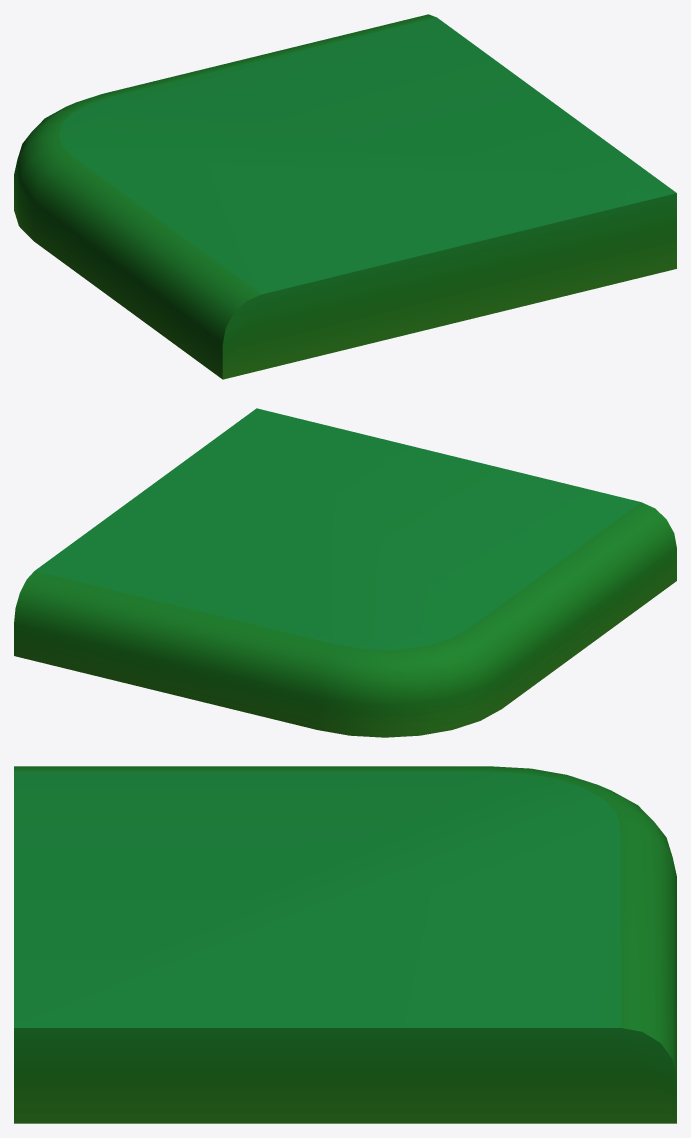
The model's file is GF_Corner_2_1.obj.
The picture shows the model from 3 angles, top to bottom: view 1: azimuth 30°, elevation 25°; view 2: azimuth 150°, elevation 25°; view 3: azimuth 270°, elevation 25°; orthographic projection. The views are drawn at different scales.
Visible parts, largest first — view 1: GF_Corner_2_1; view 2: GF_Corner_2_1; view 3: GF_Corner_2_1.
Boxes of the visible parts, x1,y1,x2,y2 form: GF_Corner_2_1: [14, 14, 676, 379]; GF_Corner_2_1: [14, 408, 676, 737]; GF_Corner_2_1: [14, 766, 676, 1123].
Bounding box in the file's own units: 2 × 0.3187 × 2.
